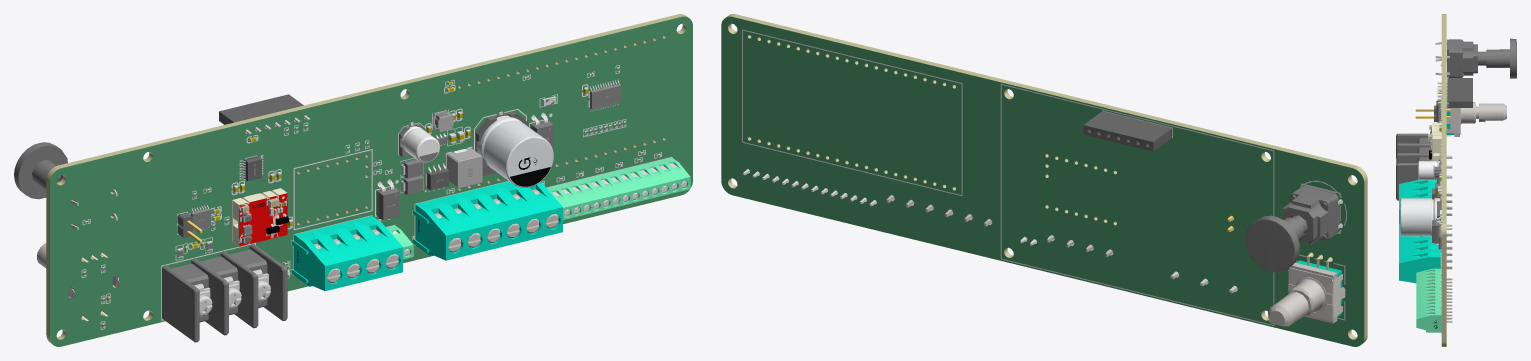
The model's file is pastercontrol.glb.
The picture shows the model from 3 angles, left to right: view 1: azimuth 30°, elevation 25°; view 2: azimuth 150°, elevation 25°; view 3: azimuth 270°, elevation 25°; orthographic projection. The views are drawn at different scales.
Visible parts, largest first — view 1: Node; view 2: Node; view 3: Node.
Boxes of the visible parts, left/top/right/bottom form: Node: left=14, top=14, right=692, bottom=346; Node: left=721, top=14, right=1367, bottom=346; Node: left=1396, top=14, right=1516, bottom=346.
Size of the model in its own units: 167 by 44.42 by 39.55.
